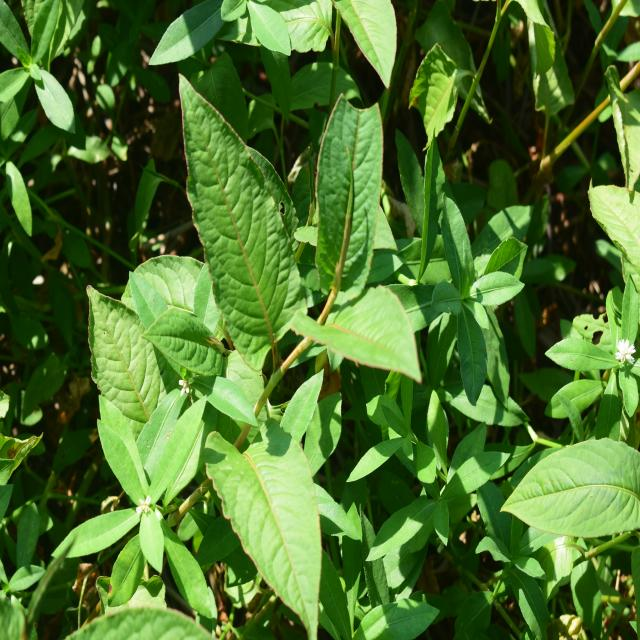Chinese_knotweed: (168, 76, 426, 418)
